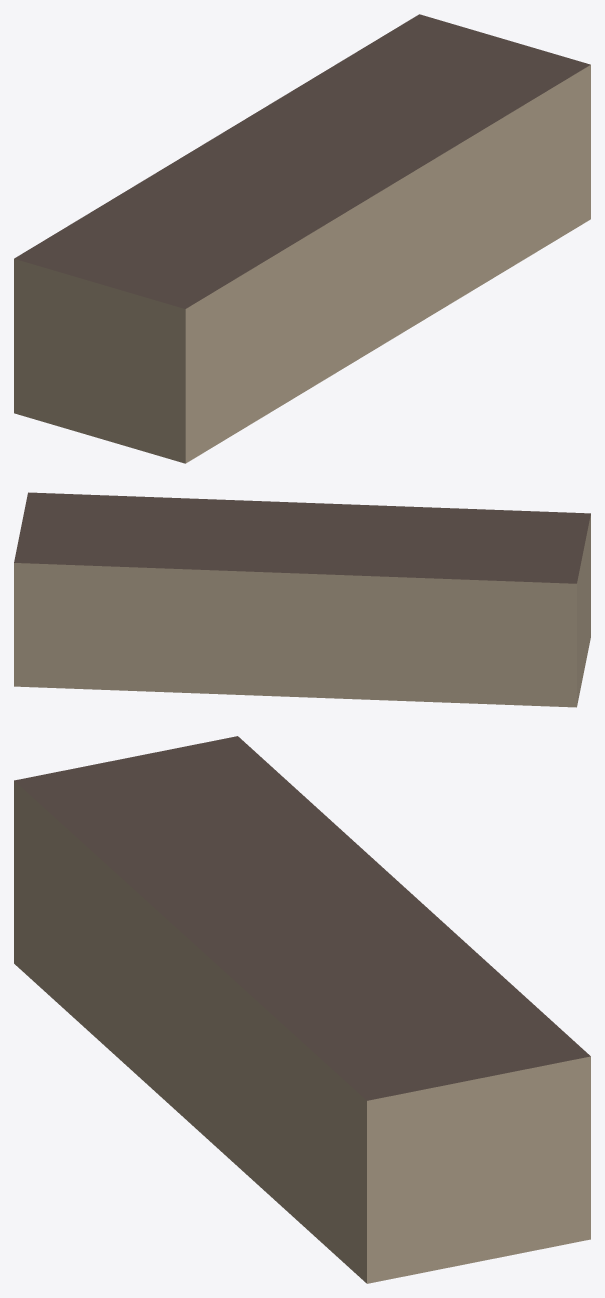
3 renders of one model, top to bottom at view 1: azimuth 30°, elevation 25°; view 2: azimuth 150°, elevation 25°; view 3: azimuth 270°, elevation 25°, orthographic. The views are drawn at different scales.
Visible parts, largest first — view 1: HP-w369317482; view 2: HP-w369317482; view 3: HP-w369317482.
Part boxes in pixels (bbox=[...]): HP-w369317482: bbox=[14, 14, 590, 463]; HP-w369317482: bbox=[14, 492, 590, 707]; HP-w369317482: bbox=[14, 736, 590, 1283].
Bounding box in the file's own units: 38.47 × 9 × 25.71.
